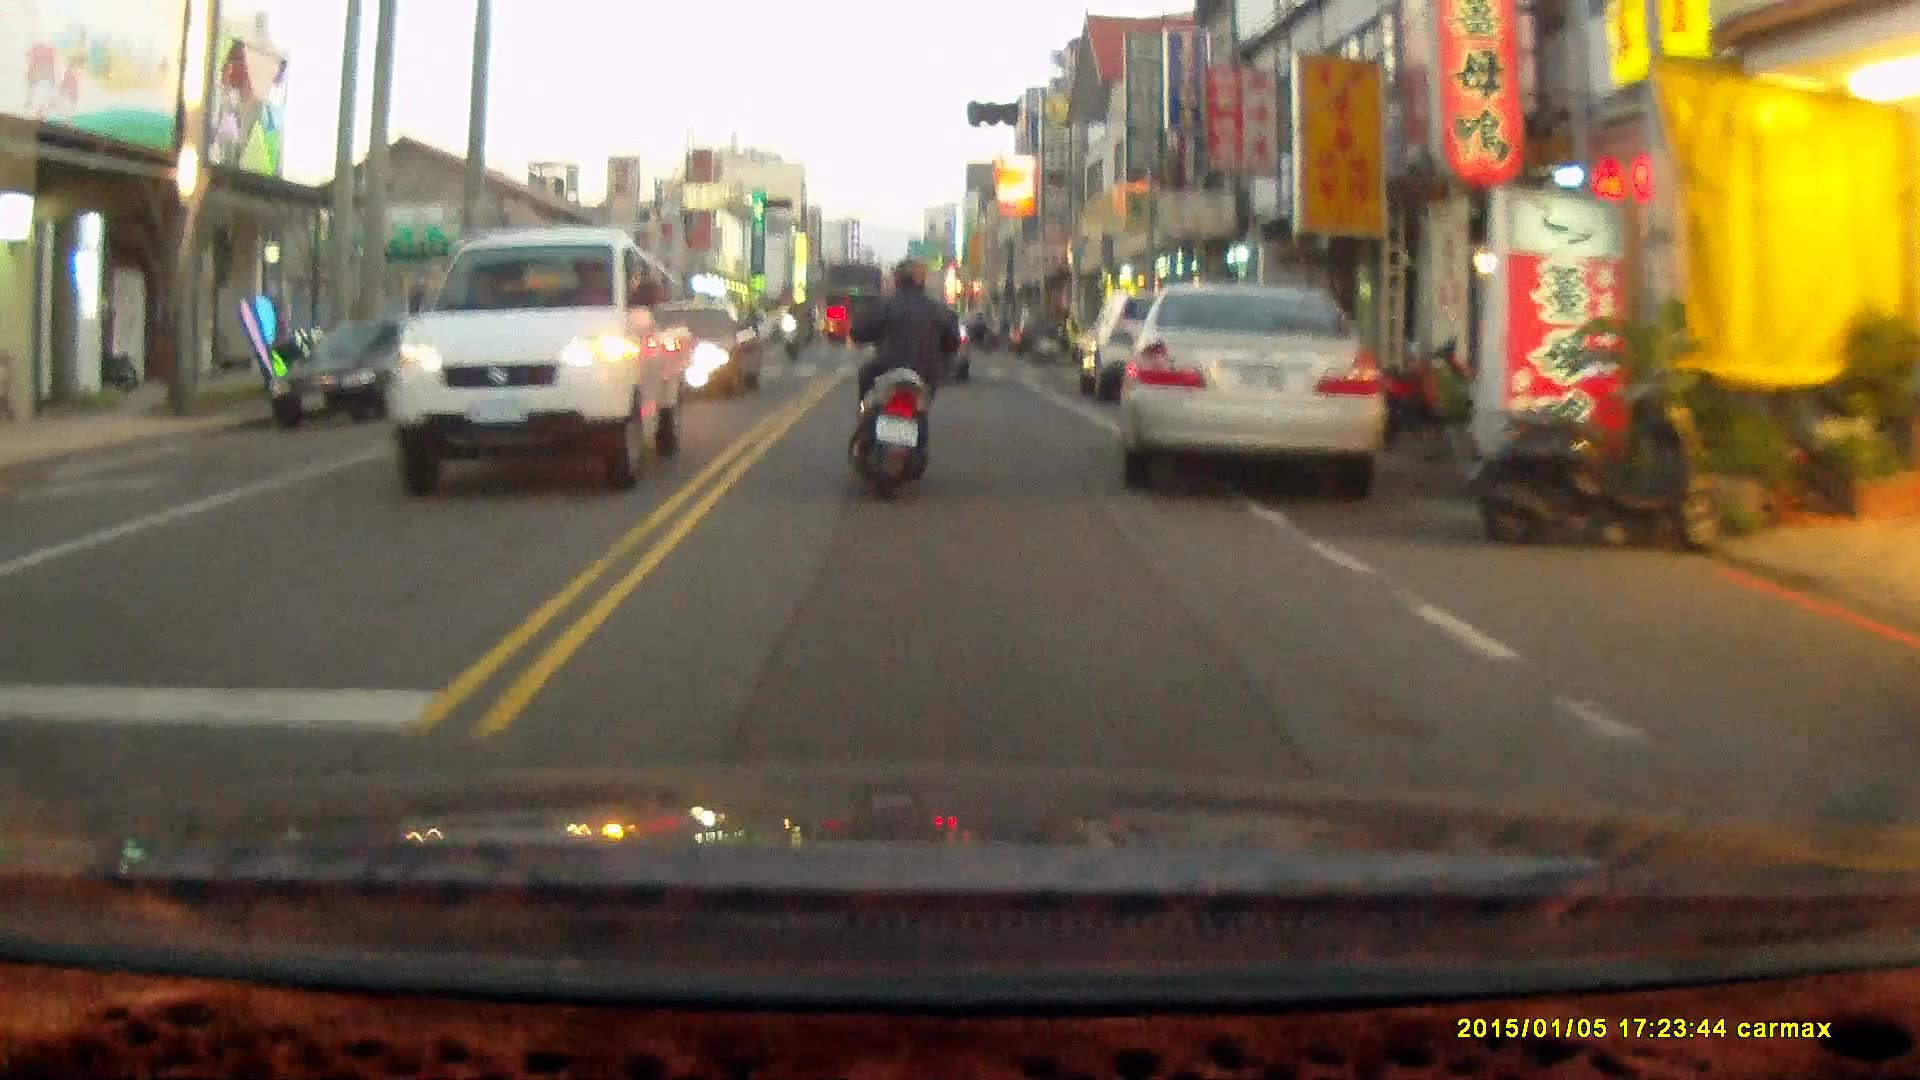pedestrian: (1058, 301, 1081, 369)
rider: (844, 254, 970, 502), (779, 301, 803, 359)
vehicle: (386, 222, 690, 490), (1116, 270, 1392, 484), (270, 308, 458, 418), (821, 251, 889, 334)
